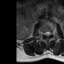CCS_normal: (46, 29, 48, 39)
LFS_normal: (51, 29, 53, 36)
LLS_normal: (49, 29, 51, 37)
RFS_normal: (42, 29, 44, 37)
RLS_normal: (44, 29, 46, 37)
